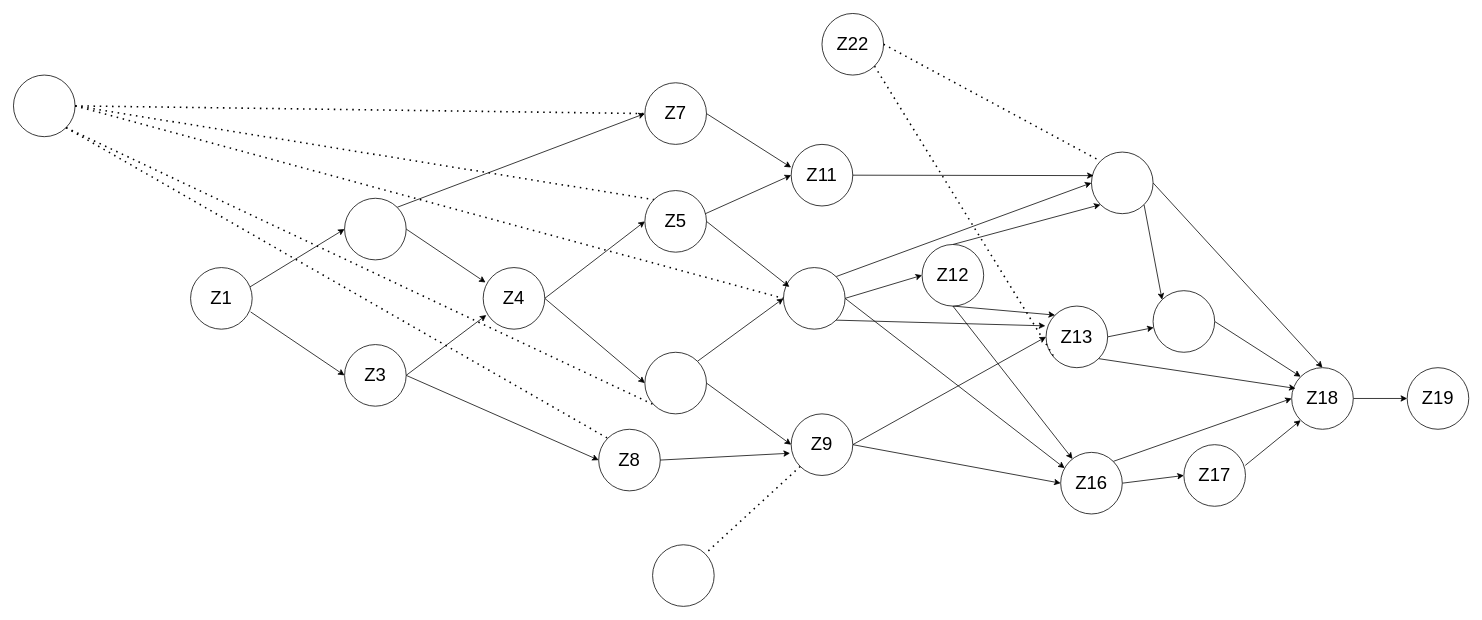
This 1482x620 diagram has some shape labels left out. The shapes that lost their labels are listed below. From the top down, each one's centre as x and y in pixels, then its label:
At [44,105]: "Z21".
At [1122,182]: "Z14".
At [375,229]: "Z2".
At [814,298]: "Z10".
At [1183,321]: "Z15".
At [675,383]: "Z6".
At [683,575]: "Z20".
